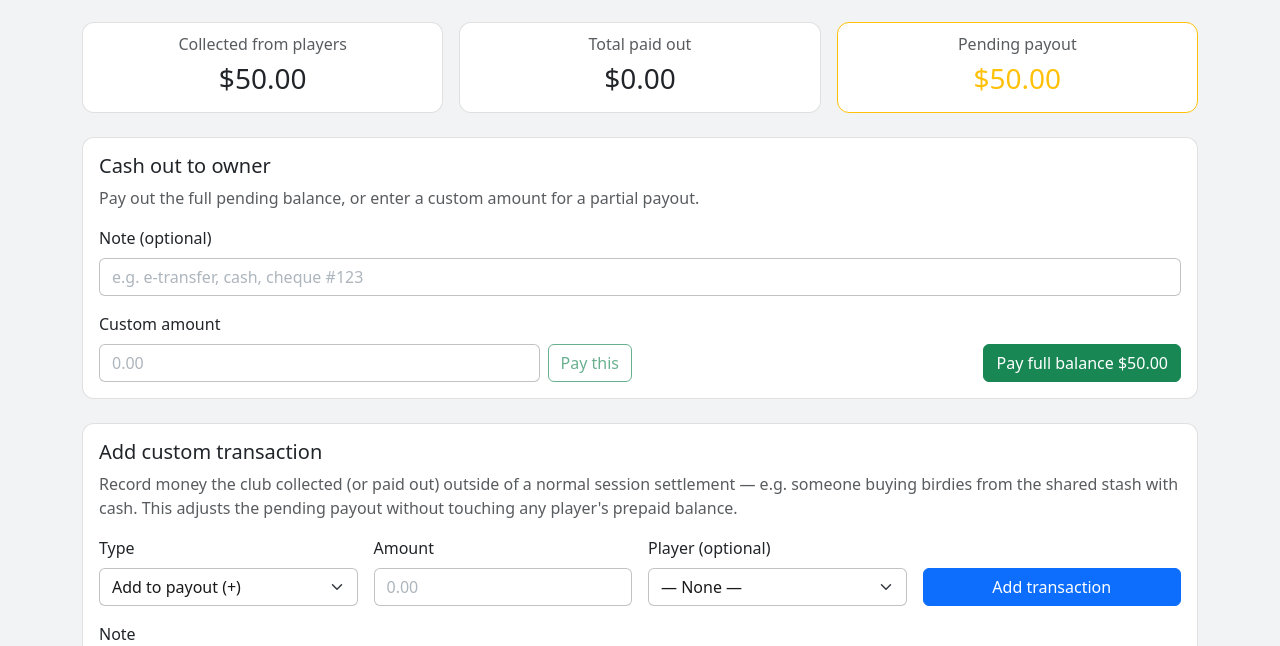
Test case: PayoutPage › validates required fields when adding a custom transaction
The image size is (1280, 646).
Click the button "Add transaction". click: (1052, 587)
box: top-left (922, 568), bottom-right (1181, 606)
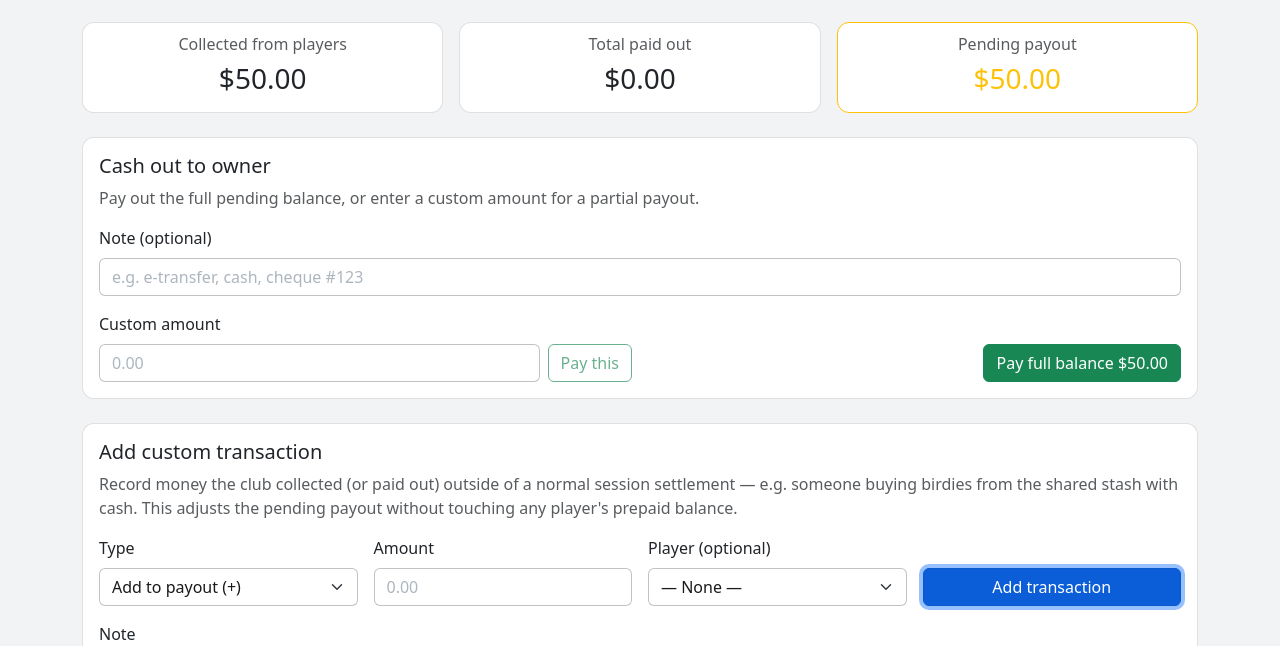
Type "10" into the number field with placeholder "0.00" below "Player (optional)". click: (503, 587)
box: top-left (374, 568), bottom-right (632, 606)
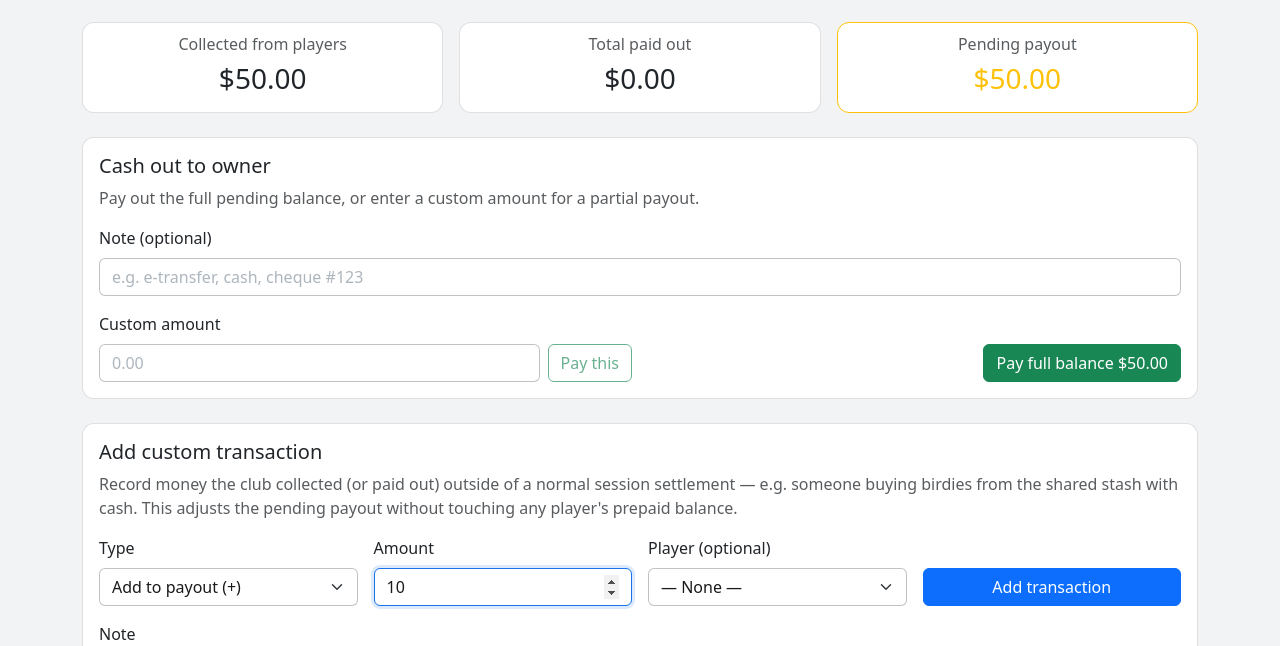
Click the button "Add transaction". click: (1052, 587)
box: top-left (922, 568), bottom-right (1181, 606)
(page scrolled)
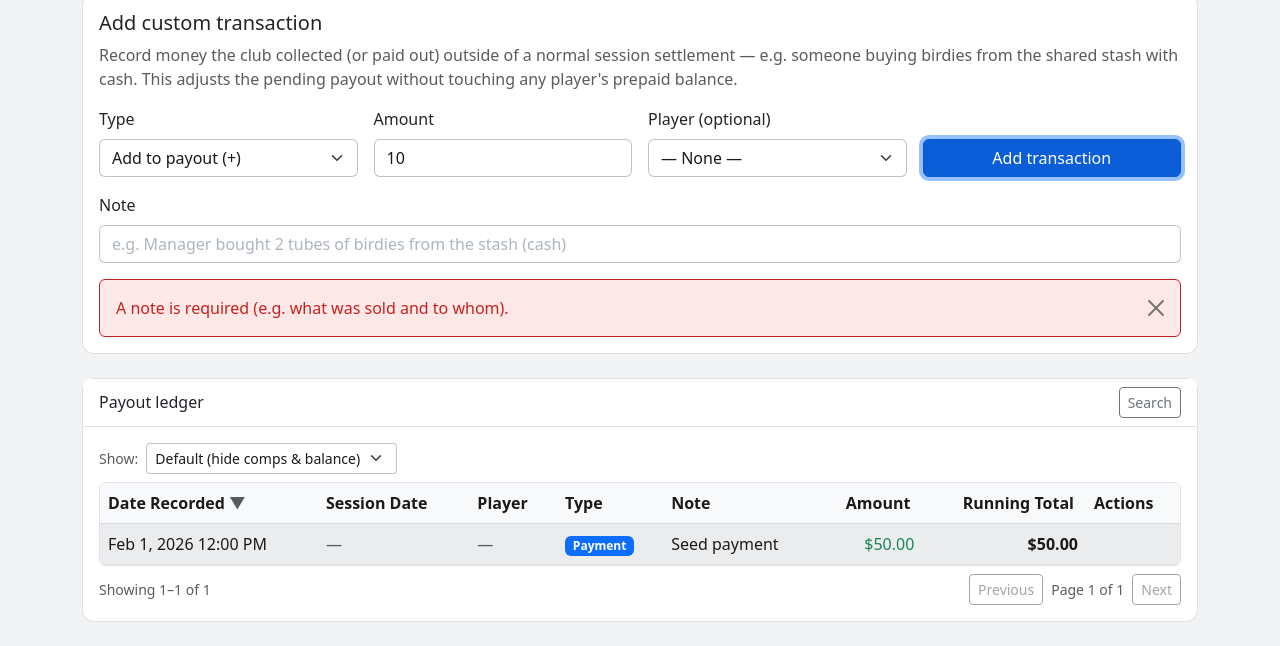
Result: the text "A note is required (e.g. what was sold and to whom)." is shown at top-left (99, 279), bottom-right (1181, 337)
